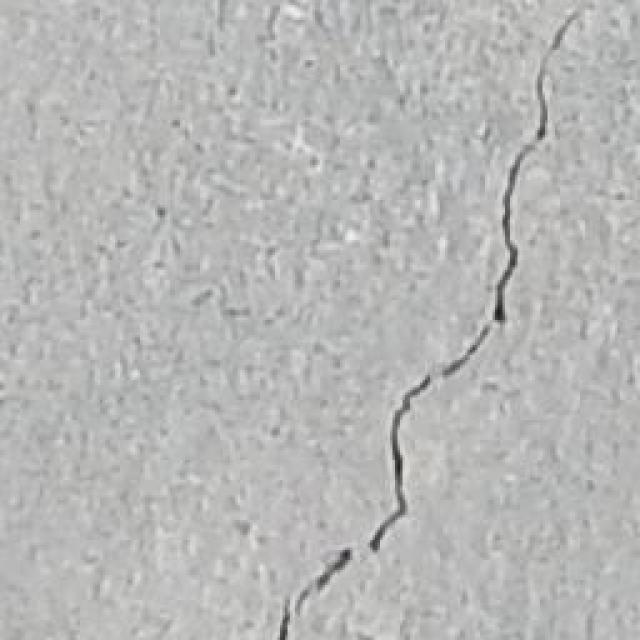concrete-crack: (368, 0, 595, 558), (275, 548, 352, 640)
